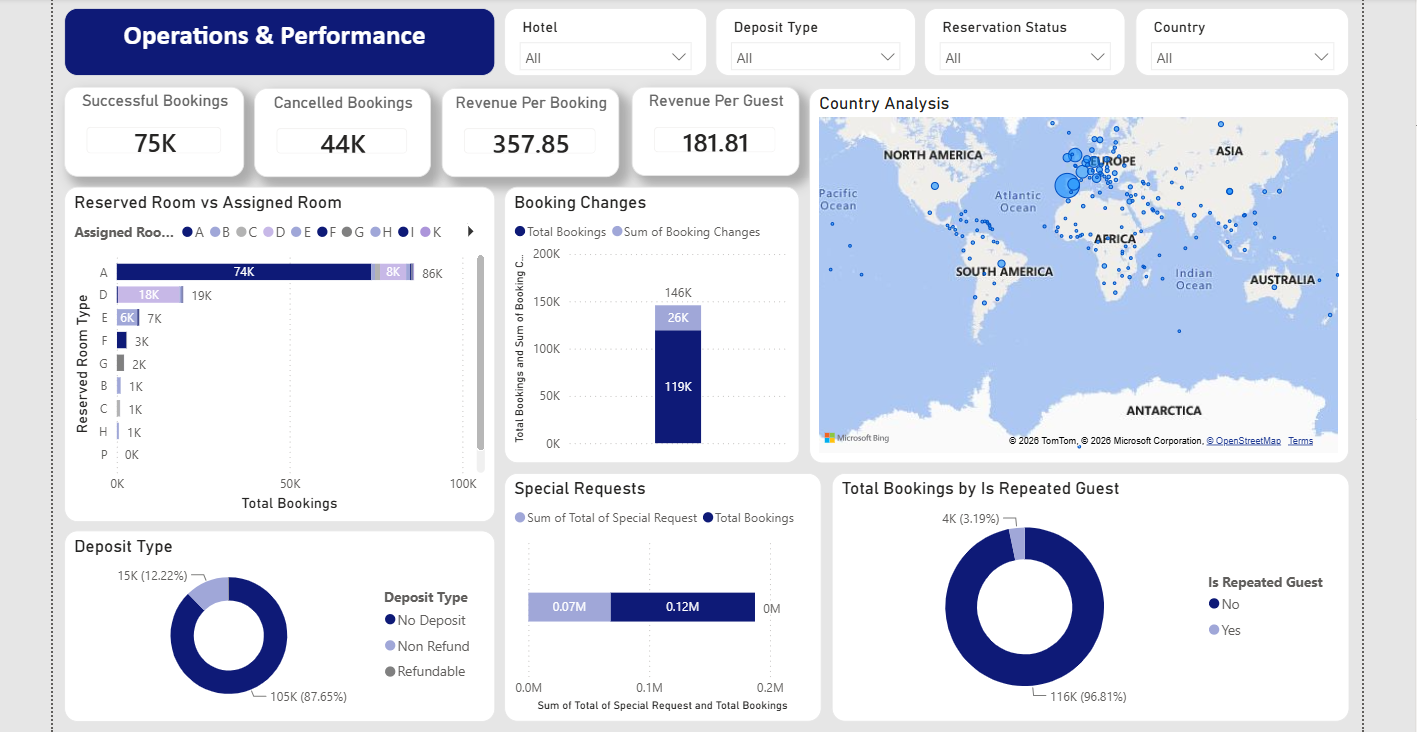

This screenshot's page, from the dashboard's own definition file:
{"tool":"powerbi","page":{"name":"Operations & Performance","canvas":[1280,720],"ordinal":2},"visuals":[{"type":"textbox","box":[11,9.8,421.9,66],"z":0},{"type":"cardVisual","title":"Successful Bookings","fields":{"Data":["Measures (2).Successful Bookings"]},"box":[11,86.8,176.1,88],"z":1000},{"type":"cardVisual","title":"Cancelled Bookings","fields":{"Data":["Measures (2).Cancelled Bookings"]},"box":[196.9,88,172.4,86.8],"z":2000},{"type":"cardVisual","title":"Revenue Per Booking","fields":{"Data":["Measures (2).Revenue Per Booking"]},"box":[380.3,88,173.6,86.8],"z":3000},{"type":"cardVisual","title":"Revenue Per Guest","fields":{"Data":["Measures (2).Revenue Per Guest"]},"box":[566.2,86.8,163.9,86.8],"z":4000},{"type":"barChart","title":"Reserved Room vs Assigned Room","fields":{"Category":["hotel_bookings.Reserved Room Type"],"Series":["hotel_bookings.Assigned Room Type"],"Y":["Measures (2).Total Bookings"]},"box":[11,184.6,421.9,327.7],"z":5000},{"type":"map","title":"Country Analysis","fields":{"Category":["hotel_bookings.Country"],"Size":["Measures (2).Total Bookings"]},"box":[739.8,88,528.3,366.8],"z":6000},{"type":"donutChart","title":"Deposit Type","fields":{"Y":["Measures (2).Total Bookings"],"Category":["hotel_bookings.Deposit Type"]},"box":[11,520.9,421.9,187.1],"z":7000},{"type":"columnChart","title":"Booking Changes","fields":{"Y":["Measures (2).Total Bookings","Sum(hotel_bookings.Booking Changes)"]},"box":[441.4,184.6,288.6,270.2],"z":8000},{"type":"barChart","title":"Special Requests","fields":{"Y":["Sum(hotel_bookings.Total of Special Request)","Measures (2).Total Bookings"]},"box":[441.4,464.7,310.6,243.3],"z":9000},{"type":"donutChart","fields":{"Category":["hotel_bookings.Is Repeated Guest"],"Y":["Measures (2).Total Bookings"]},"box":[761.8,464.7,506.3,243.3],"z":10000},{"type":"slicer","fields":{"Values":["hotel_bookings.Hotel"]},"box":[441.4,9.8,198.1,66],"z":11000},{"type":"slicer","fields":{"Values":["hotel_bookings.Deposit Type"]},"box":[648.1,9.8,195.7,66],"z":12000},{"type":"slicer","fields":{"Values":["hotel_bookings.Reservation Status"]},"box":[852.3,9.8,196.9,66],"z":13000},{"type":"slicer","fields":{"Values":["hotel_bookings.Country"]},"box":[1059,9.8,209.1,66],"z":14000}]}

Visuals, with their boxes on the page's 1280x720 design canvas (x1, y1, x2, y2). These are canvas units, not pixel positions in the 1417x732 screenshot, which may show the page scaled, cropped or inside an application window:
textbox: <region>11, 10, 433, 76</region>
"Successful Bookings" cardVisual: <region>11, 87, 187, 175</region>
"Cancelled Bookings" cardVisual: <region>197, 88, 369, 175</region>
"Revenue Per Booking" cardVisual: <region>380, 88, 554, 175</region>
"Revenue Per Guest" cardVisual: <region>566, 87, 730, 174</region>
"Reserved Room vs Assigned Room" barChart: <region>11, 185, 433, 512</region>
"Country Analysis" map: <region>740, 88, 1268, 455</region>
"Deposit Type" donutChart: <region>11, 521, 433, 708</region>
"Booking Changes" columnChart: <region>441, 185, 730, 455</region>
"Special Requests" barChart: <region>441, 465, 752, 708</region>
donutChart - hotel_bookings.Is Repeated Guest x Measures (2).Total Bookings: <region>762, 465, 1268, 708</region>
slicer - hotel_bookings.Hotel: <region>441, 10, 640, 76</region>
slicer - hotel_bookings.Deposit Type: <region>648, 10, 844, 76</region>
slicer - hotel_bookings.Reservation Status: <region>852, 10, 1049, 76</region>
slicer - hotel_bookings.Country: <region>1059, 10, 1268, 76</region>
